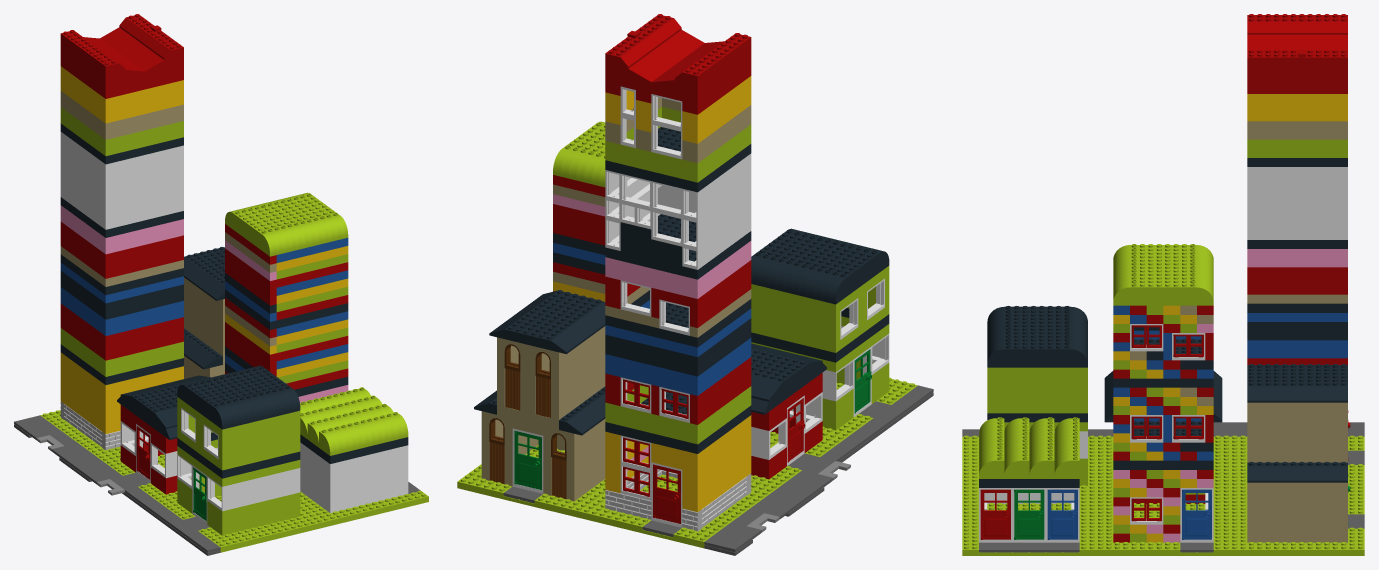
Rendered from Block1-lod0.fbx.
3 views of the same model, side by side, from view 1: azimuth 30°, elevation 25°; view 2: azimuth 150°, elevation 25°; view 3: azimuth 270°, elevation 25° (orthographic). The views are drawn at different scales.
Parts seen in each view (by area): view 1: Material_119, Material_21, Material_26, Material_1, Material_24, Material_5, Material_23, Material_199, Material_222, Material_208, Material_28; view 2: Material_26, Material_119, Material_21, Material_1, Material_5, Material_24, Material_199, Material_23, Material_222, Material_192, Material_208, Material_28 (+1 smaller); view 3: Material_119, Material_26, Material_21, Material_5, Material_1, Material_23, Material_24, Material_222, Material_199, Material_28.
Boxes of the visible parts, x1=… form: Material_119: x1=40, y1=107, x2=428, y2=552; Material_21: x1=60, y1=14, x2=348, y2=494; Material_26: x1=60, y1=123, x2=408, y2=478; Material_1: x1=60, y1=132, x2=408, y2=524; Material_24: x1=60, y1=66, x2=348, y2=433; Material_5: x1=60, y1=91, x2=276, y2=378; Material_23: x1=60, y1=237, x2=348, y2=370; Material_199: x1=14, y1=415, x2=420, y2=555; Material_222: x1=60, y1=205, x2=348, y2=402; Material_208: x1=60, y1=402, x2=120, y2=450; Material_28: x1=193, y1=467, x2=206, y2=521; Material_26: x1=474, y1=127, x2=889, y2=453; Material_119: x1=457, y1=107, x2=917, y2=548; Material_21: x1=553, y1=14, x2=822, y2=523; Material_1: x1=512, y1=86, x2=889, y2=527; Material_5: x1=481, y1=97, x2=751, y2=501; Material_24: x1=553, y1=76, x2=751, y2=512; Material_199: x1=503, y1=385, x2=933, y2=555; Material_23: x1=553, y1=242, x2=751, y2=395; Material_222: x1=553, y1=194, x2=751, y2=470; Material_192: x1=489, y1=344, x2=566, y2=499; Material_208: x1=605, y1=469, x2=751, y2=531; Material_28: x1=514, y1=349, x2=871, y2=490; Material_119: x1=962, y1=139, x2=1364, y2=555; Material_26: x1=979, y1=158, x2=1347, y2=487; Material_21: x1=980, y1=14, x2=1350, y2=542; Material_5: x1=1130, y1=121, x2=1347, y2=542; Material_1: x1=979, y1=167, x2=1347, y2=542; Material_23: x1=1047, y1=305, x2=1347, y2=539; Material_24: x1=1113, y1=94, x2=1347, y2=542; Material_222: x1=1113, y1=249, x2=1347, y2=542; Material_199: x1=962, y1=422, x2=1364, y2=552; Material_28: x1=1014, y1=474, x2=1350, y2=539.
Bounding box in the file's own units: 28.8 × 46.08 × 38.4.
